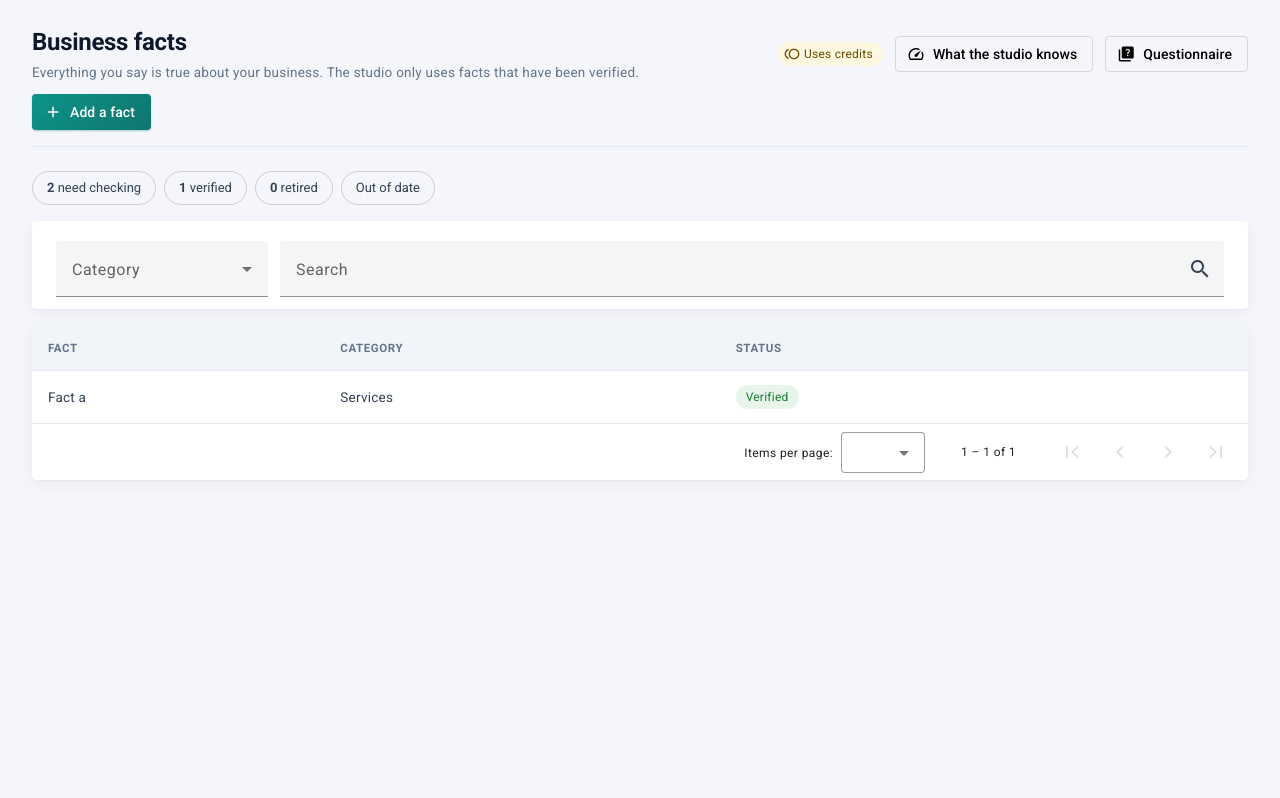
StudioFactsComponent › warns that changing a verified fact means verifying it again
Click the row with class "fact-row" at (67, 397), box [32,371,1248,423]
(page scrolled)
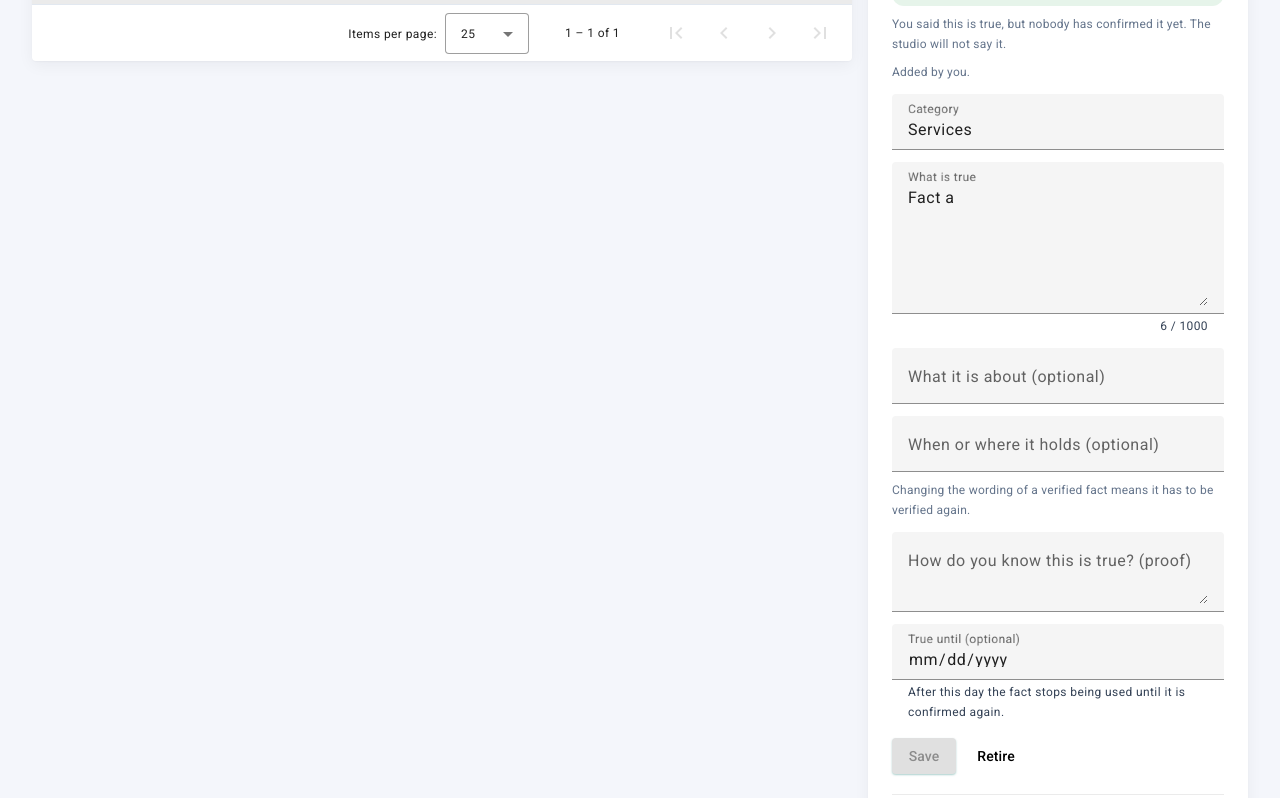
Expected: the element with class "detail-card" shows "has to be verified again", [892,483,1214,517]
